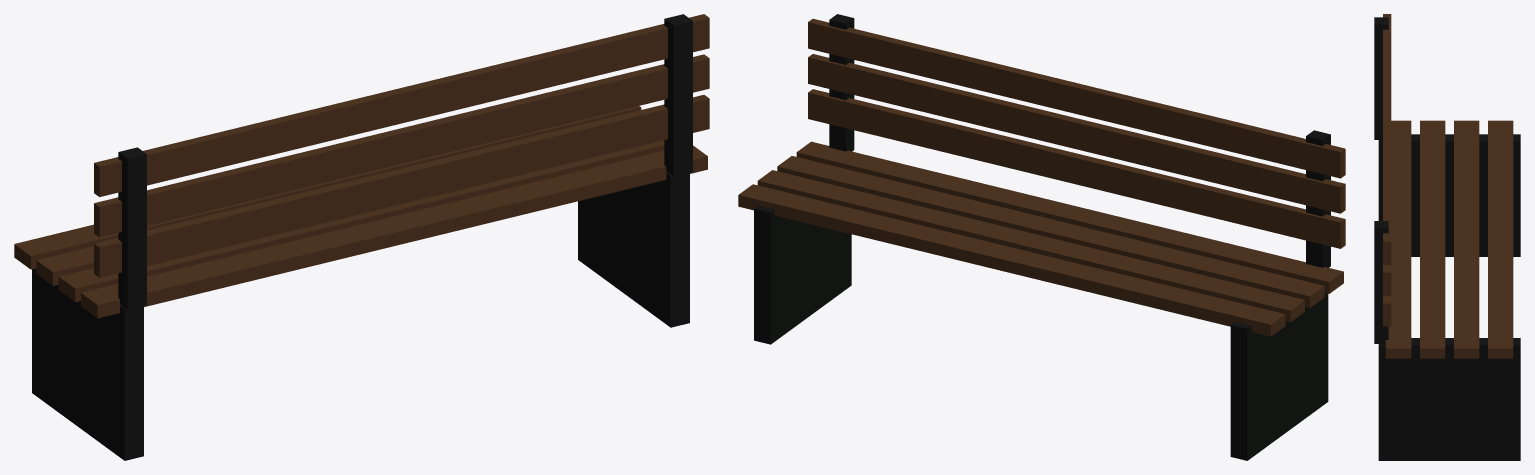
The model's file is bench.glb.
3 renders of one model, left to right at view 1: azimuth 30°, elevation 25°; view 2: azimuth 150°, elevation 25°; view 3: azimuth 270°, elevation 25°, orthographic. The views are drawn at different scales.
Visible parts, largest first — view 1: bench_body; view 2: bench_body; view 3: bench_body.
Boxes of the visible parts, x1,y1,x2,y2 form: bench_body: (14, 14, 709, 460); bench_body: (738, 14, 1345, 460); bench_body: (1374, 14, 1520, 460).
Size of the model in its own units: 1.9 by 0.905 by 0.515.
